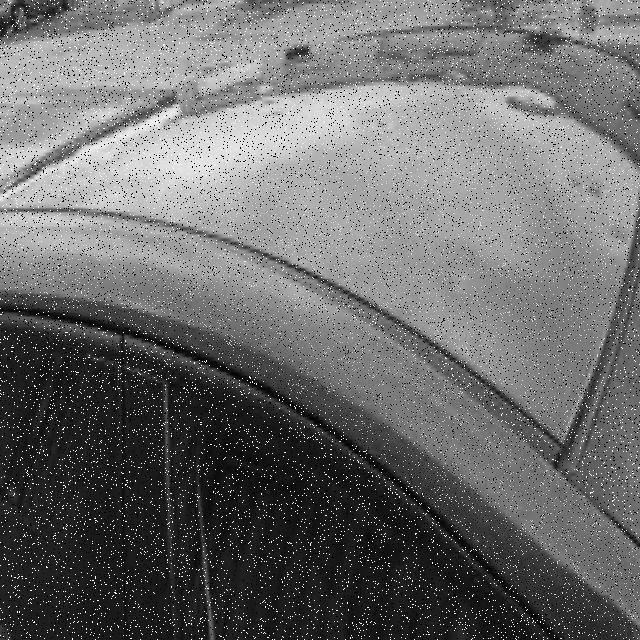roof-dent: (336, 26, 501, 450), (502, 33, 635, 453)
